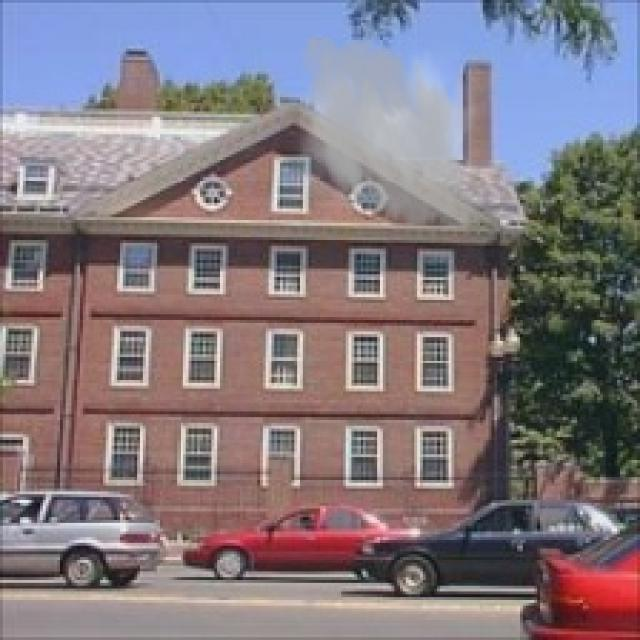smoke: (283, 26, 488, 240)
